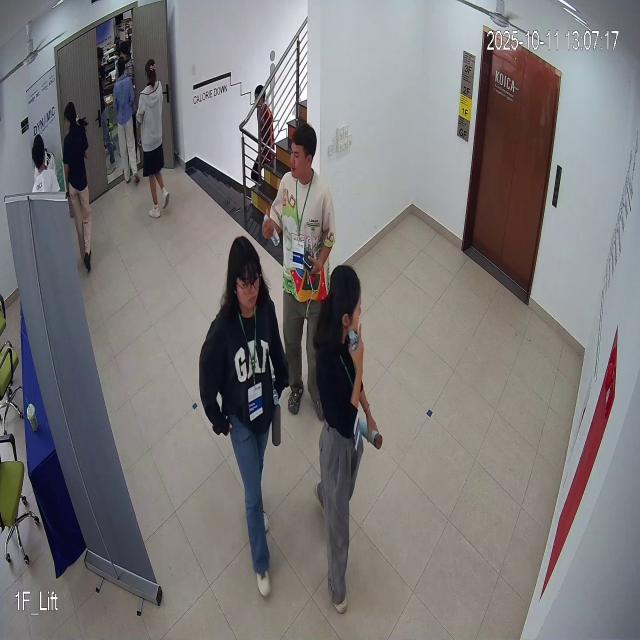face: (227, 230, 265, 320), (285, 122, 317, 180)
